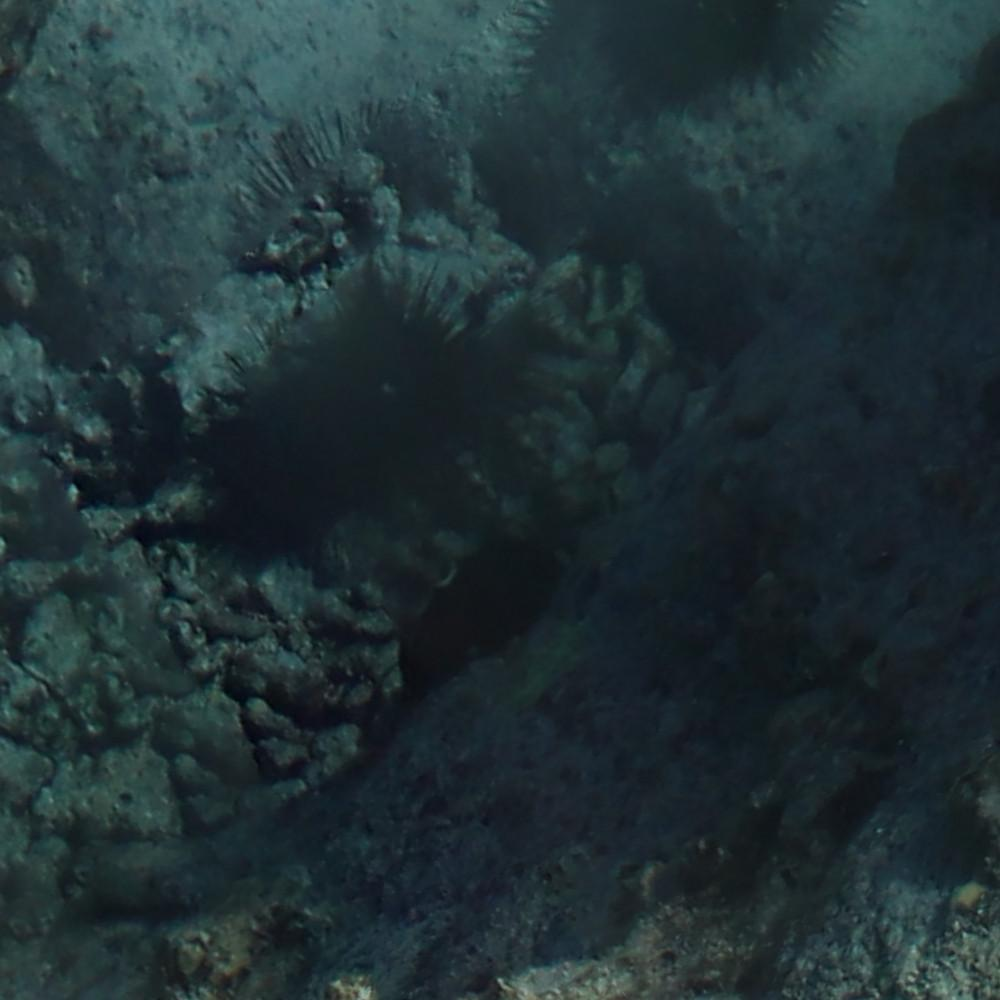diadema_paucispinum: (192, 258, 483, 539), (508, 6, 876, 127), (224, 106, 405, 234)
tripneustes_gratilla: (401, 543, 567, 687)
